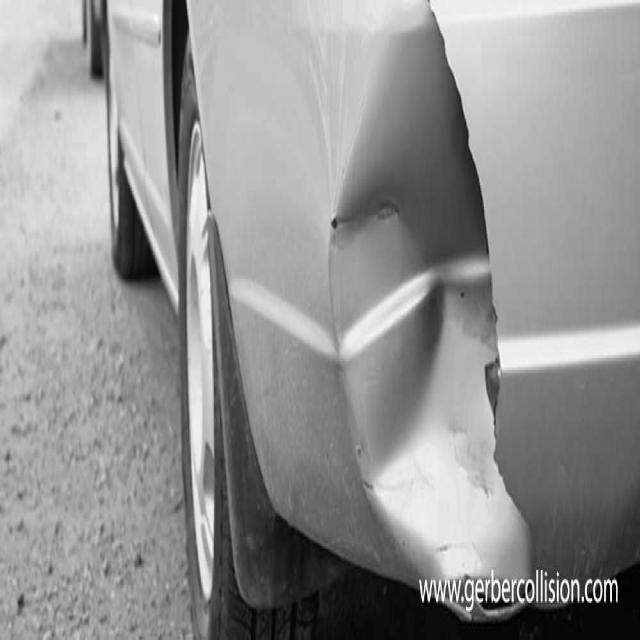dent: (324, 0, 534, 618)
scratch: (448, 425, 494, 502), (329, 195, 403, 232), (435, 538, 467, 555)
tear: (424, 0, 530, 527)
